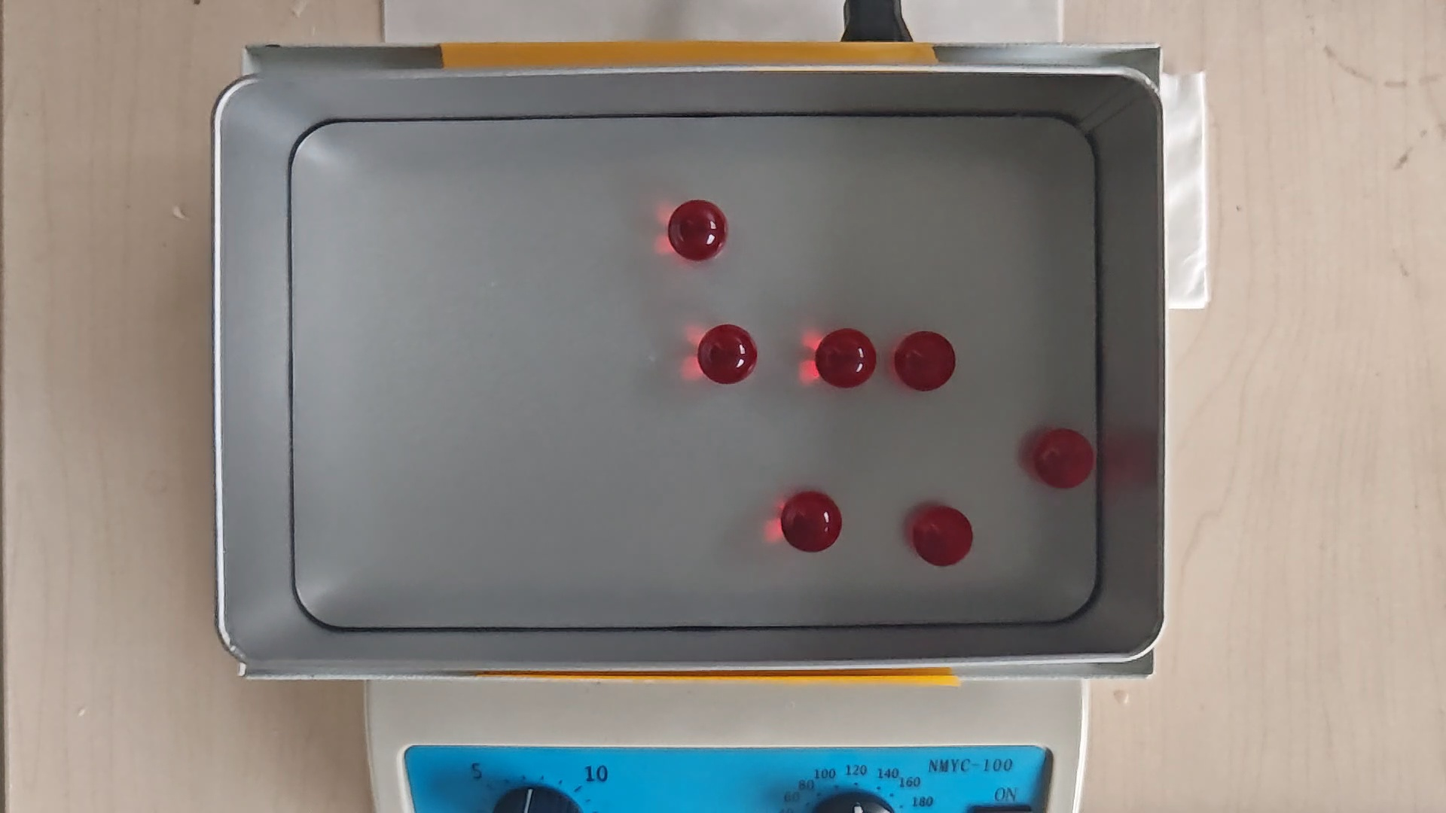ball: (697, 323, 759, 385), (895, 330, 955, 393), (817, 328, 877, 390), (1034, 428, 1094, 489), (782, 492, 841, 554), (914, 505, 973, 567), (670, 199, 727, 263)
container: (288, 114, 1100, 630)
